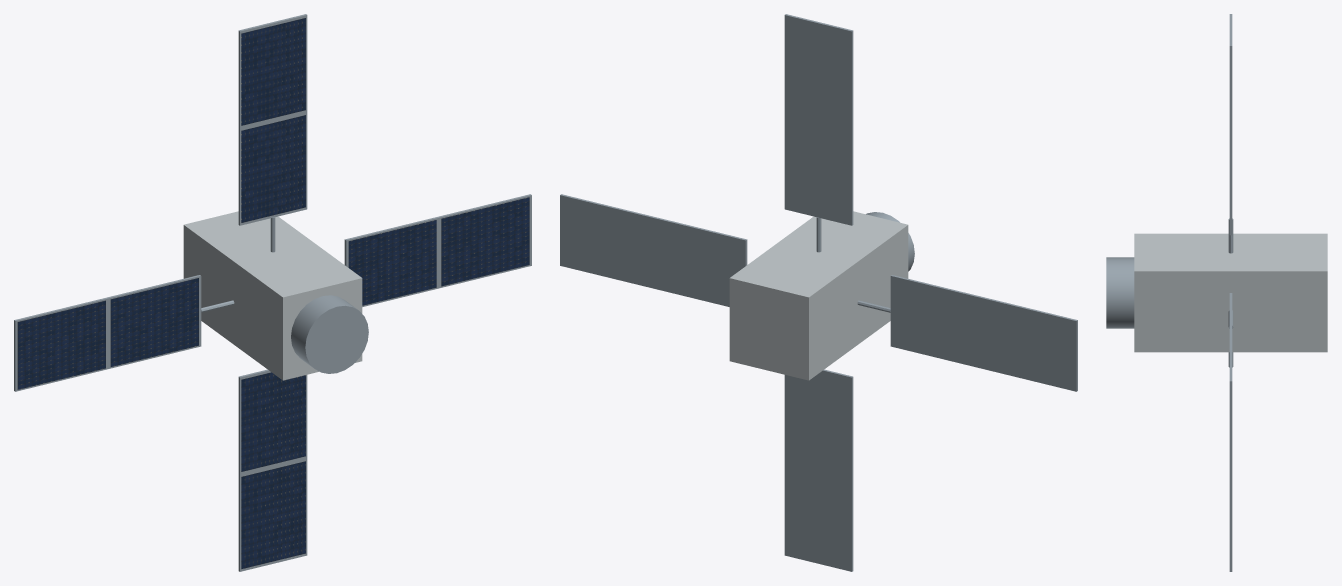
File: ref-sas-4797.glb
3 views of the same model, side by side, from view 1: azimuth 30°, elevation 25°; view 2: azimuth 150°, elevation 25°; view 3: azimuth 270°, elevation 25° (orthographic). The views are drawn at different scales.
Visible parts, largest first — view 1: Photovoltaic laminates (×8), Spacecraft body, Array frame (×8), Cylindrical section; view 2: Array frame (×8), Spacecraft body; view 3: Spacecraft body, Cylindrical section, Array frame (×4).
Boxes of the visible parts, box(x1,y1,x2,y2) form: Photovoltaic laminates (×8): box(17, 18, 529, 568); Spacecraft body: box(183, 211, 362, 380); Array frame (×8): box(14, 14, 531, 571); Cylindrical section: box(291, 295, 368, 373); Array frame (×8): box(560, 14, 1077, 571); Spacecraft body: box(729, 211, 908, 380); Spacecraft body: box(1134, 233, 1327, 352); Cylindrical section: box(1106, 257, 1134, 328); Array frame (×4): box(1229, 14, 1232, 571).
Size of the model in its own units: 3.9 by 3.9 by 1.49.
3 materials, 1 textured.
